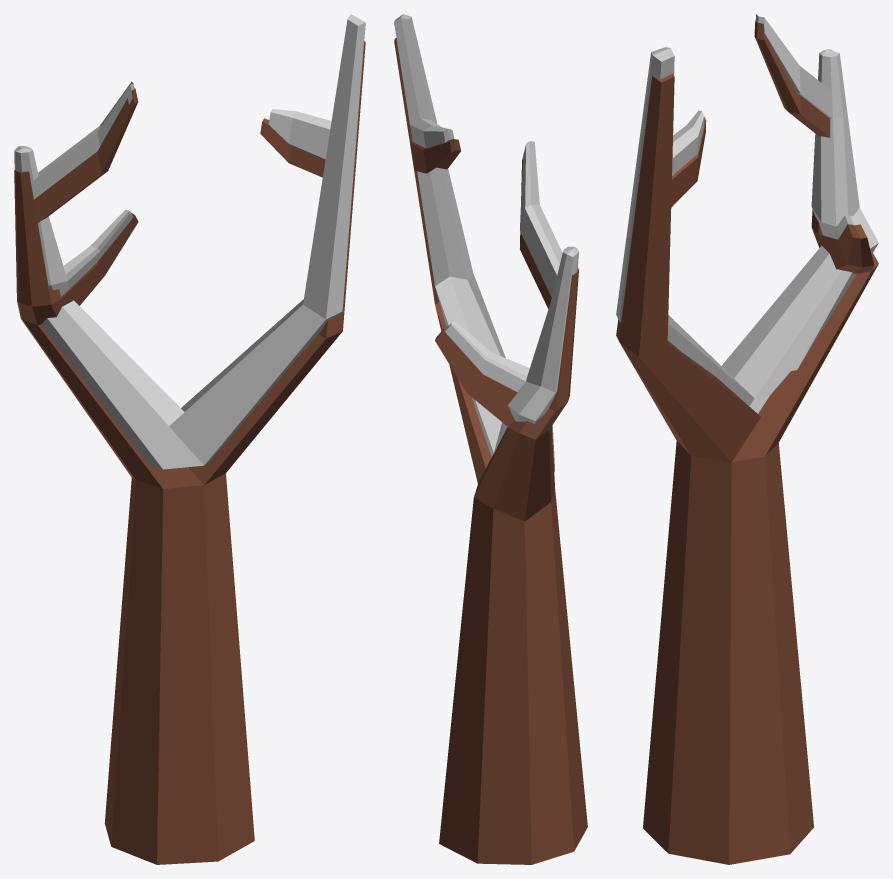
The model's file is Tree_05_winter_vc.fbx.
3 views of the same model, side by side, from view 1: azimuth 30°, elevation 25°; view 2: azimuth 150°, elevation 25°; view 3: azimuth 270°, elevation 25° (orthographic). The views are drawn at different scales.
Visible parts, largest first — view 1: Tree_05_winter_vc; view 2: Tree_05_winter_vc; view 3: Tree_05_winter_vc.
Boxes of the visible parts, x1,y1,x2,y2 form: Tree_05_winter_vc: [14, 14, 365, 864]; Tree_05_winter_vc: [394, 14, 587, 864]; Tree_05_winter_vc: [616, 14, 878, 864].
Bounding box in the file's own units: 136 × 385 × 107.
